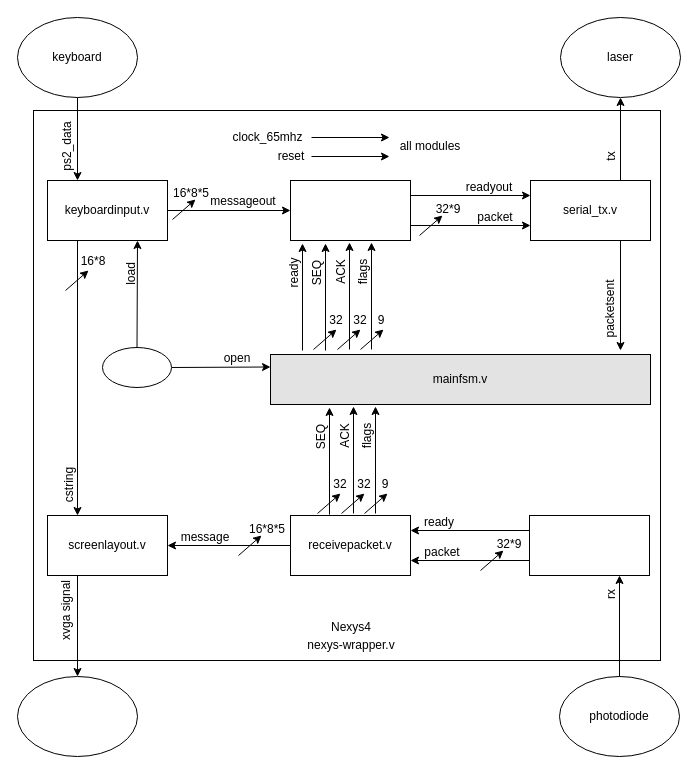
This 698x774 diagram has some shape labels left out. The shapes that lost their labels are listed below. From the top down, each one's centre as x and y in pixels, then its label:
At point (350, 210): "makepacket.v".
At point (137, 367): "buttons".
At point (589, 545): "serial_rx.v".
At point (77, 716): "VGA monitor".
